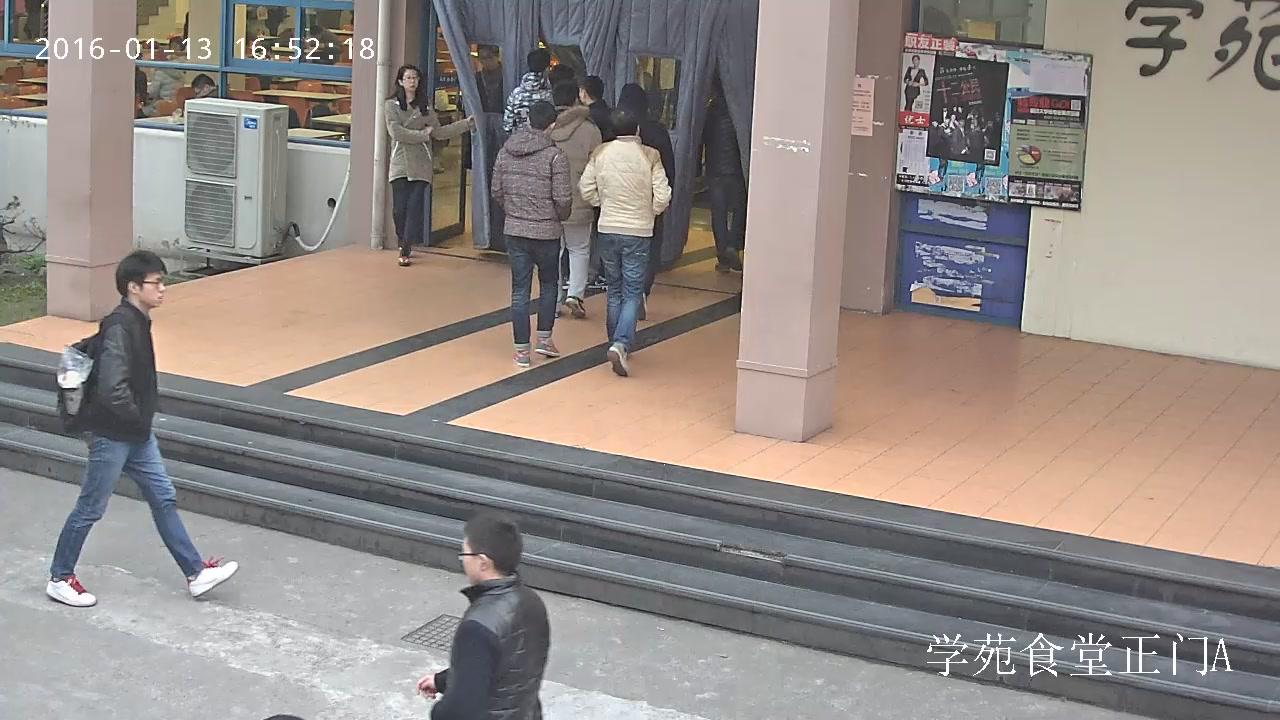person: (46, 249, 237, 607), (417, 509, 548, 720), (578, 106, 669, 375), (490, 99, 571, 366), (383, 63, 474, 266), (614, 83, 671, 320), (549, 81, 602, 316), (701, 71, 746, 274), (578, 75, 612, 289), (503, 47, 554, 134), (138, 54, 184, 118), (473, 43, 503, 112), (306, 24, 343, 64), (903, 54, 928, 111), (264, 5, 287, 37), (191, 73, 218, 98)
